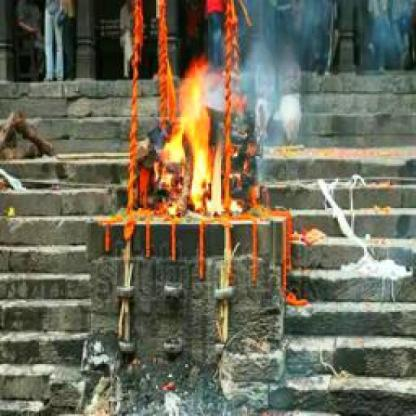fire: (162, 67, 227, 219)
